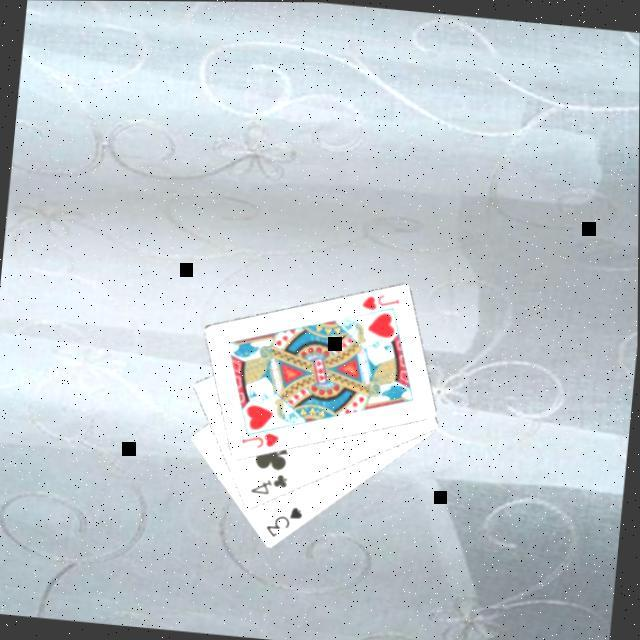3S: (261, 500, 306, 543)
4C: (246, 468, 290, 500)
JH: (357, 289, 402, 315), (236, 428, 282, 453)
